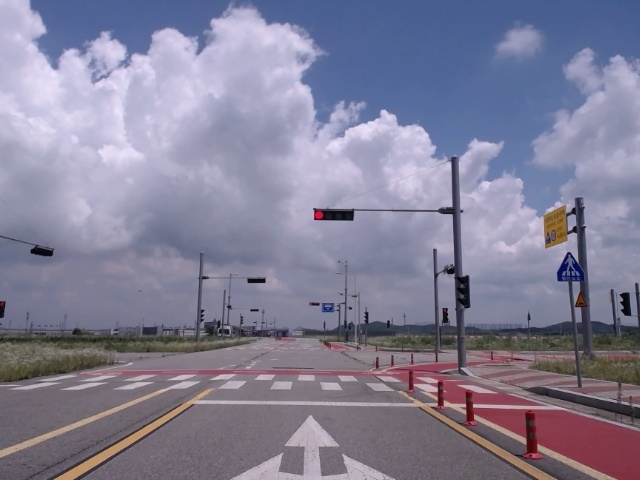red_4: (314, 209, 354, 220)
